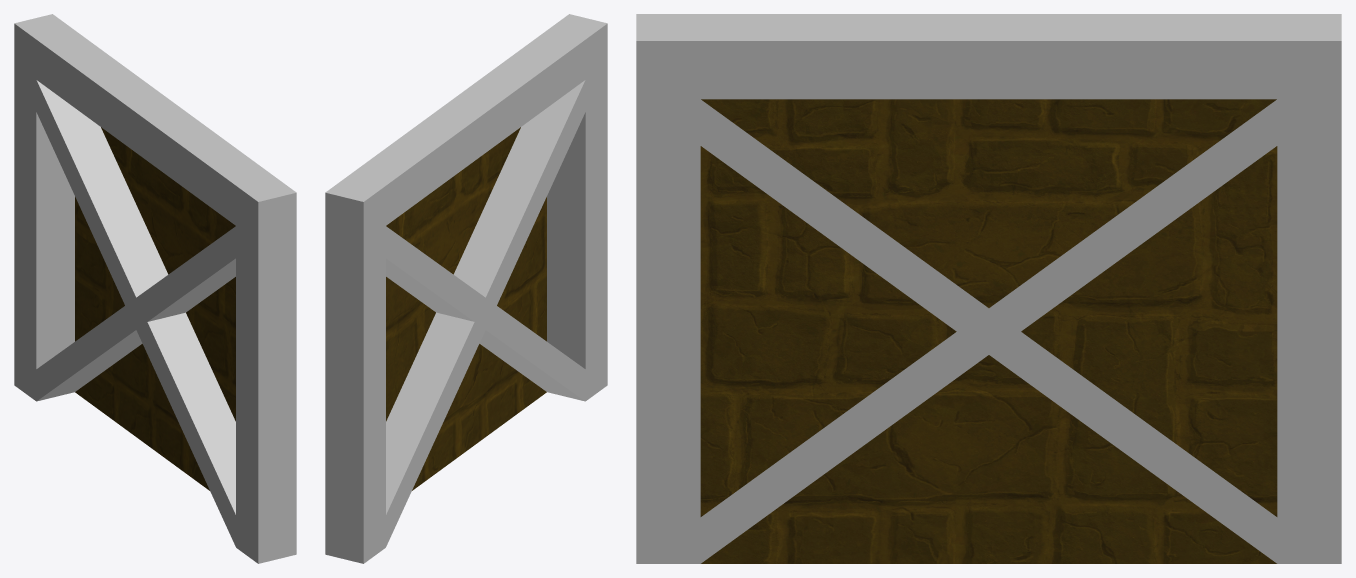
Rendered from WallCross.fbx.
The picture shows the model from 3 angles, left to right: view 1: azimuth 30°, elevation 25°; view 2: azimuth 150°, elevation 25°; view 3: azimuth 270°, elevation 25°; orthographic projection. The views are drawn at different scales.
Parts seen in each view (by area): view 1: WallCross; view 2: WallCross; view 3: WallCross.
Part boxes in pixels (left/top/right/bottom): WallCross: left=14, top=14, right=296, bottom=563; WallCross: left=325, top=14, right=607, bottom=563; WallCross: left=636, top=14, right=1341, bottom=563.
Size of the model in its own units: 1 by 9 by 11.
